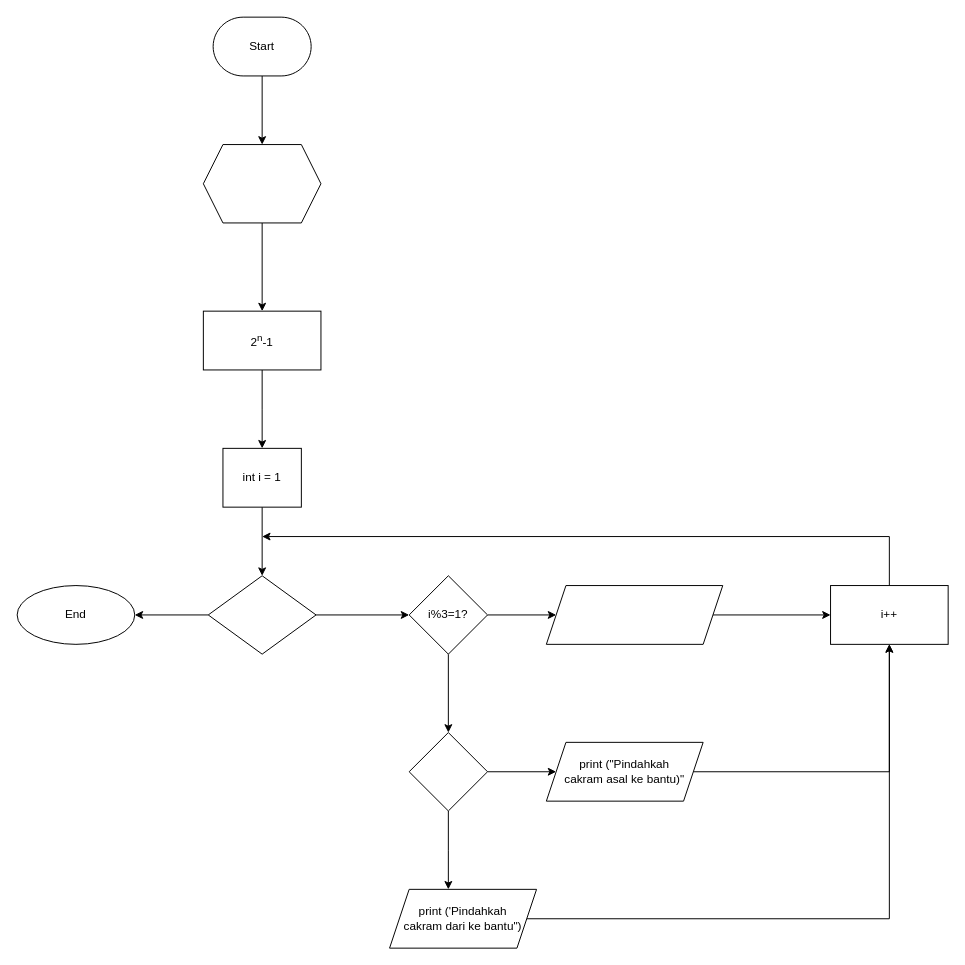
Some shapes in this 965 by 965 pixel diagram are drawn without their labels. Here are the shapes that lost their labels. From the top down, the centre of each, then its label:
pixel 261 183: int n, asal, tujuan, bantu, totalLangkah
pixel 261 614: i<= totalLangkah?
pixel 634 614: print ("Pindahkan cakram asal ke tujuan"
pixel 448 771: i % 3 = 2 ?
